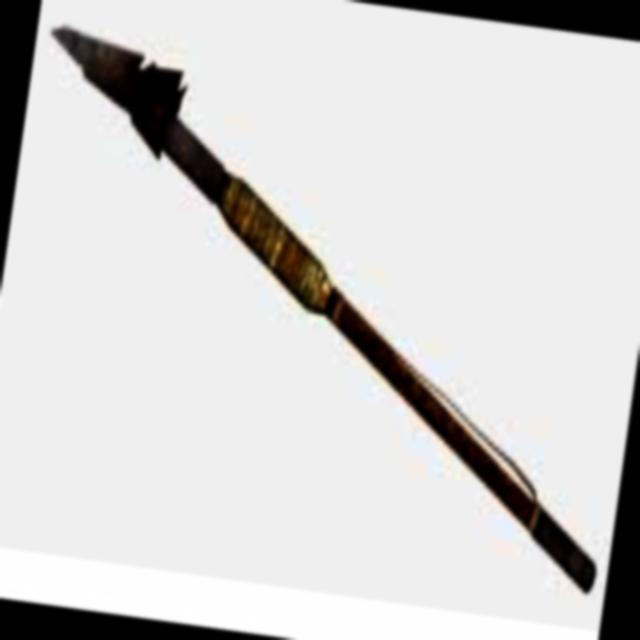spear: (0, 7, 640, 605)
